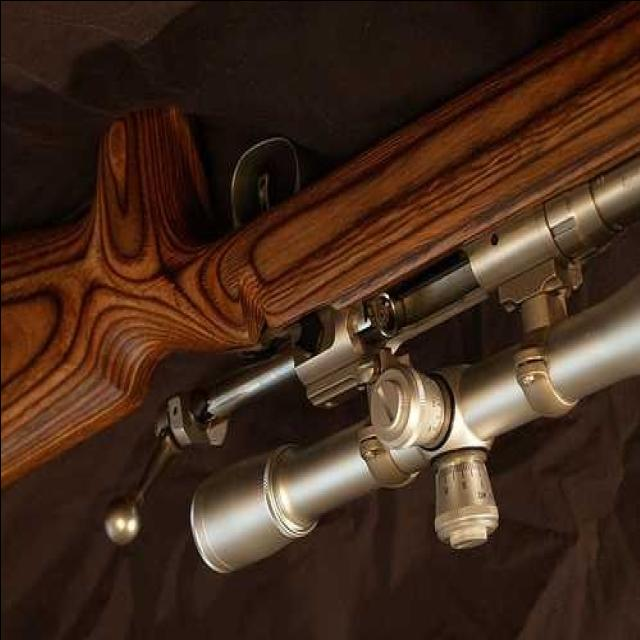heavyweapon: (1, 81, 640, 600)
